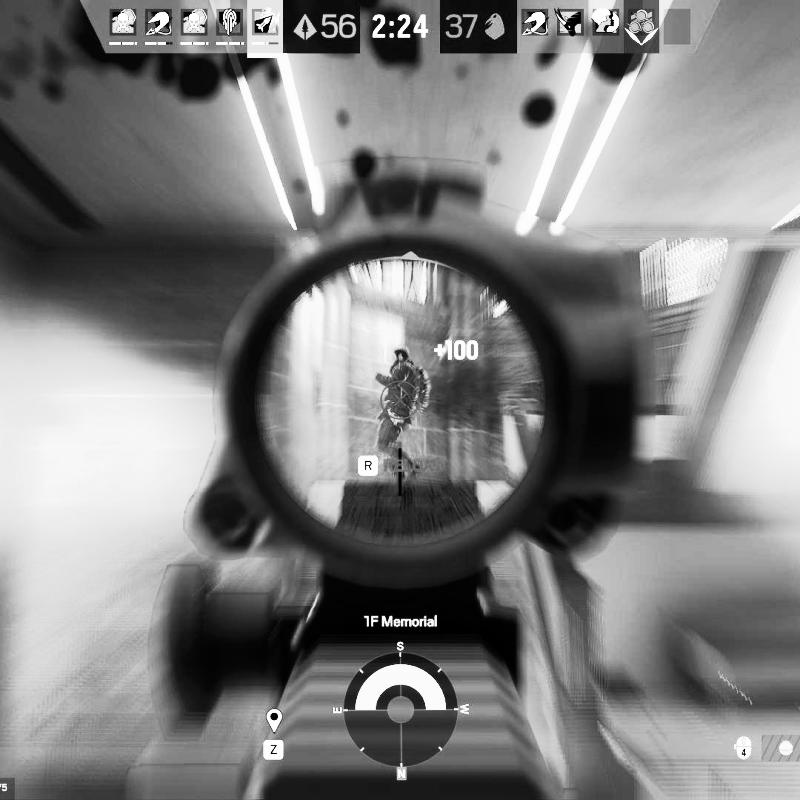Character: (372, 344, 434, 490)
Head: (389, 346, 410, 367)
